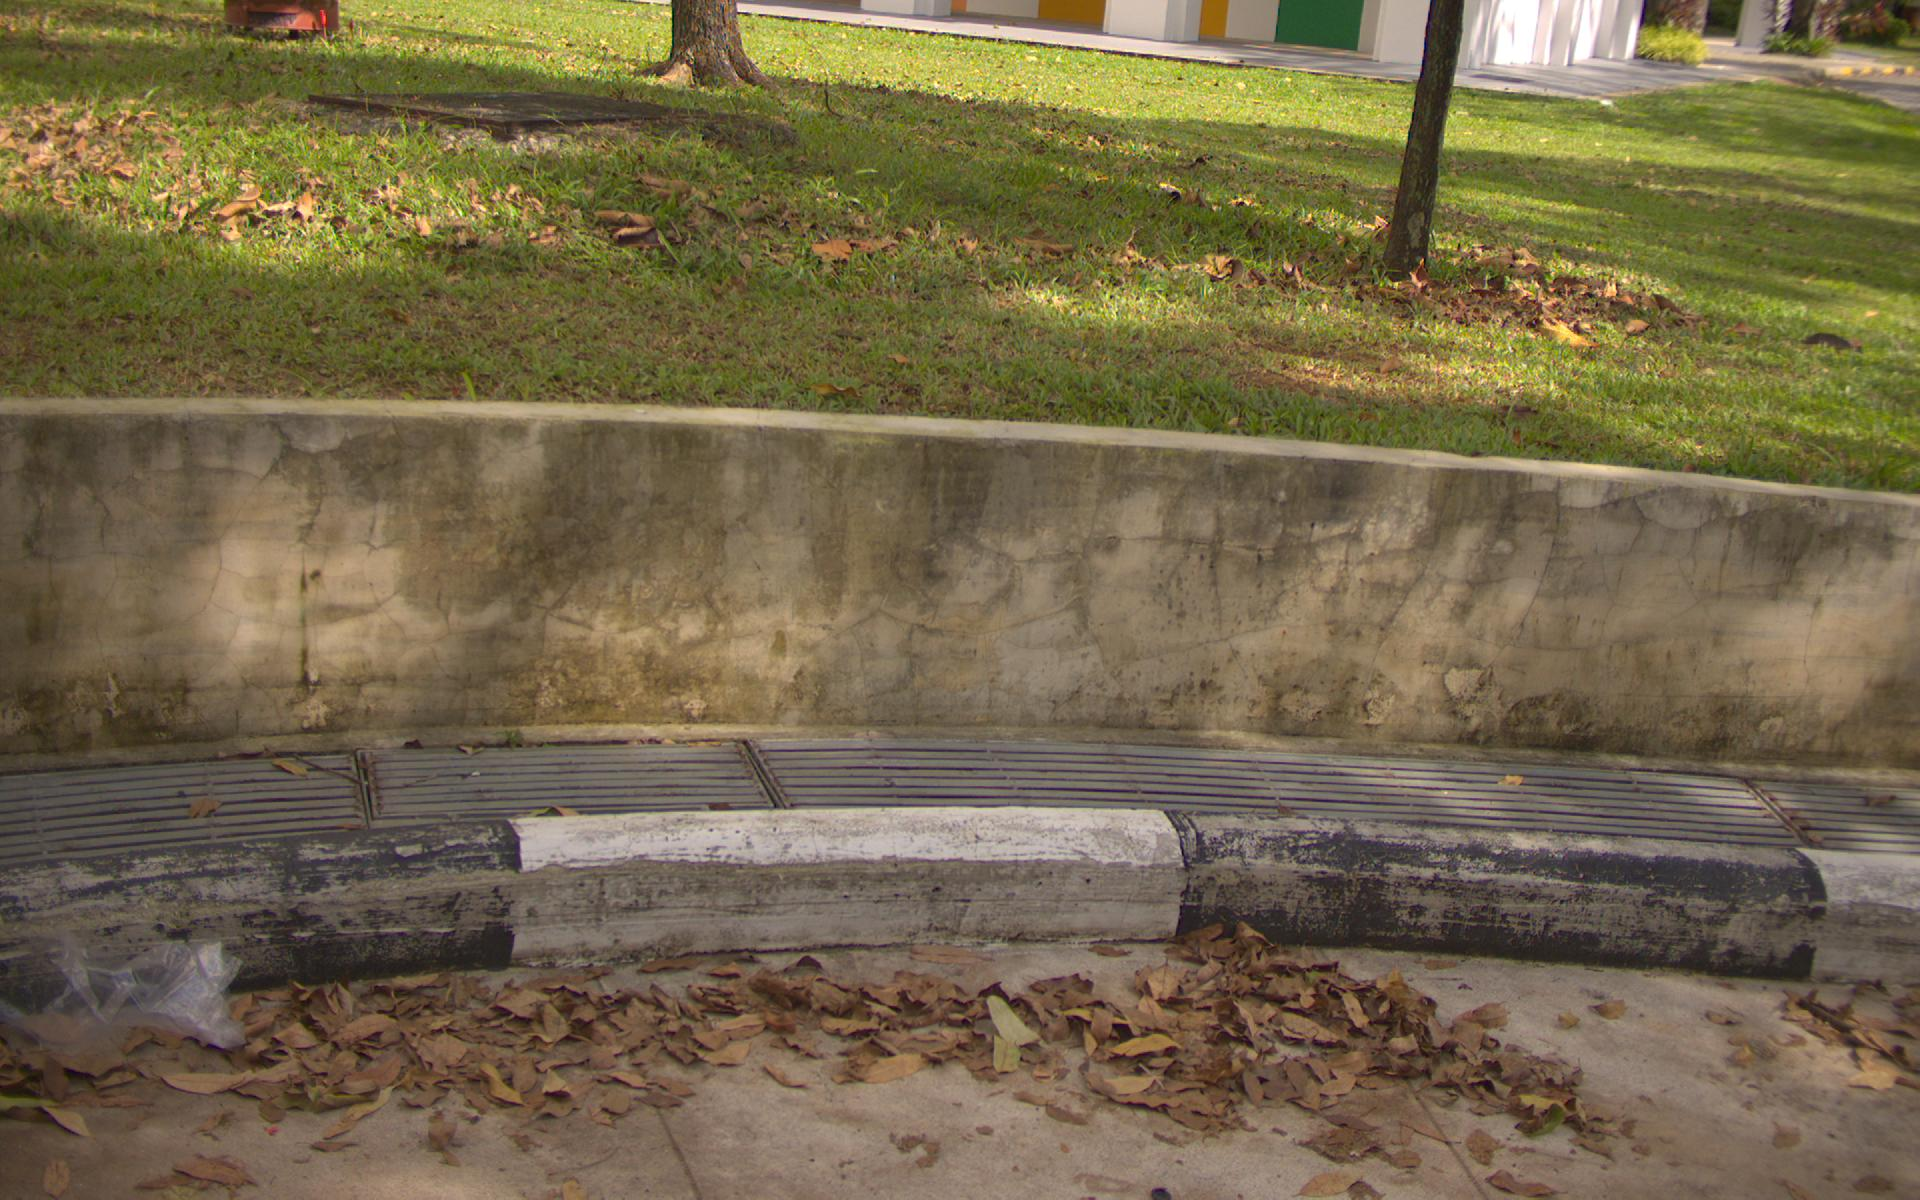curb_grill_low: (1, 740, 1919, 854)
road_curb_medium: (4, 936, 1916, 1193)
road_turf_low: (7, 17, 1897, 482)
road_turf_medium: (7, 17, 1897, 482)
